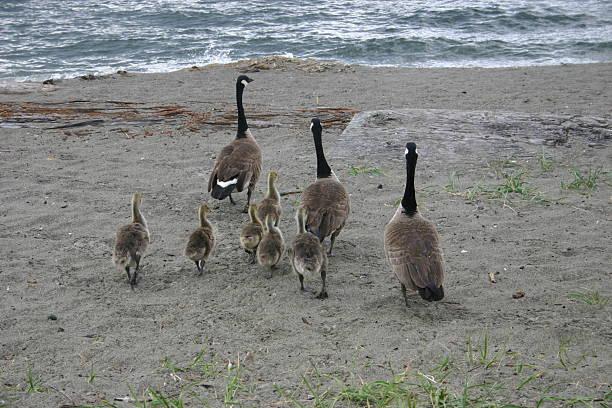goose: (381, 141, 447, 313), (206, 74, 265, 209), (297, 117, 351, 251)
